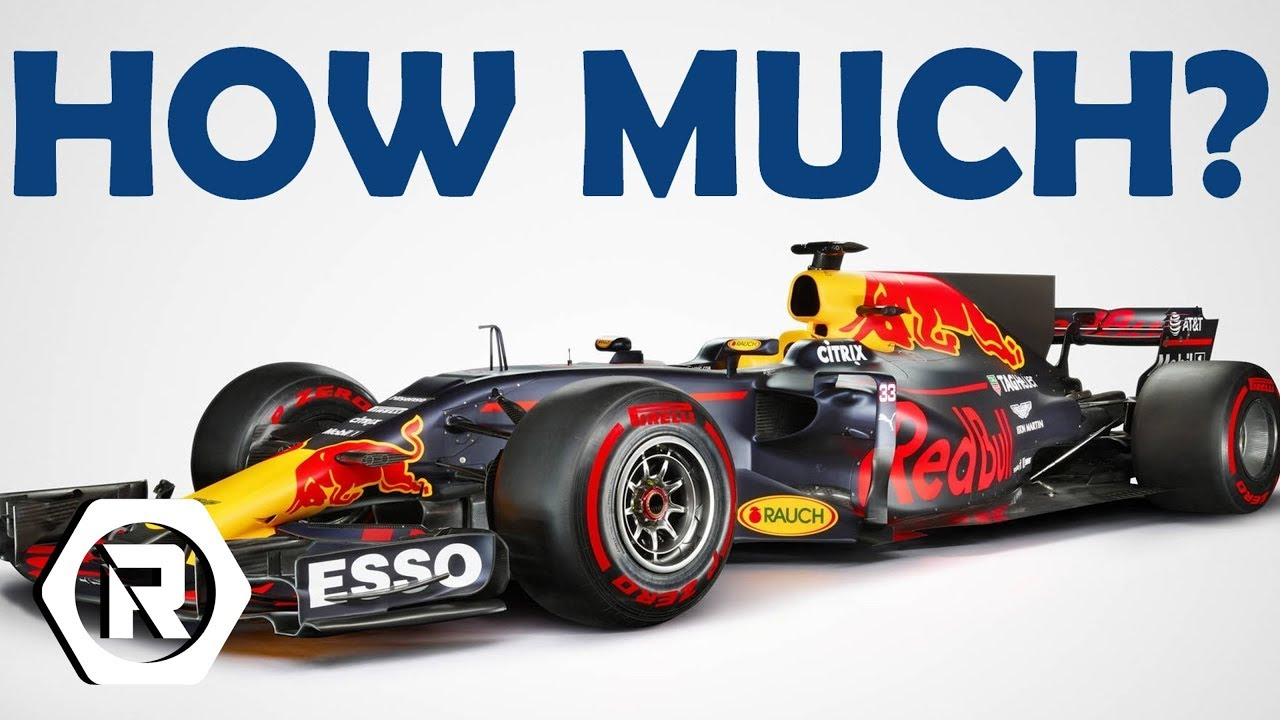f1_car: (4, 237, 1280, 682)
